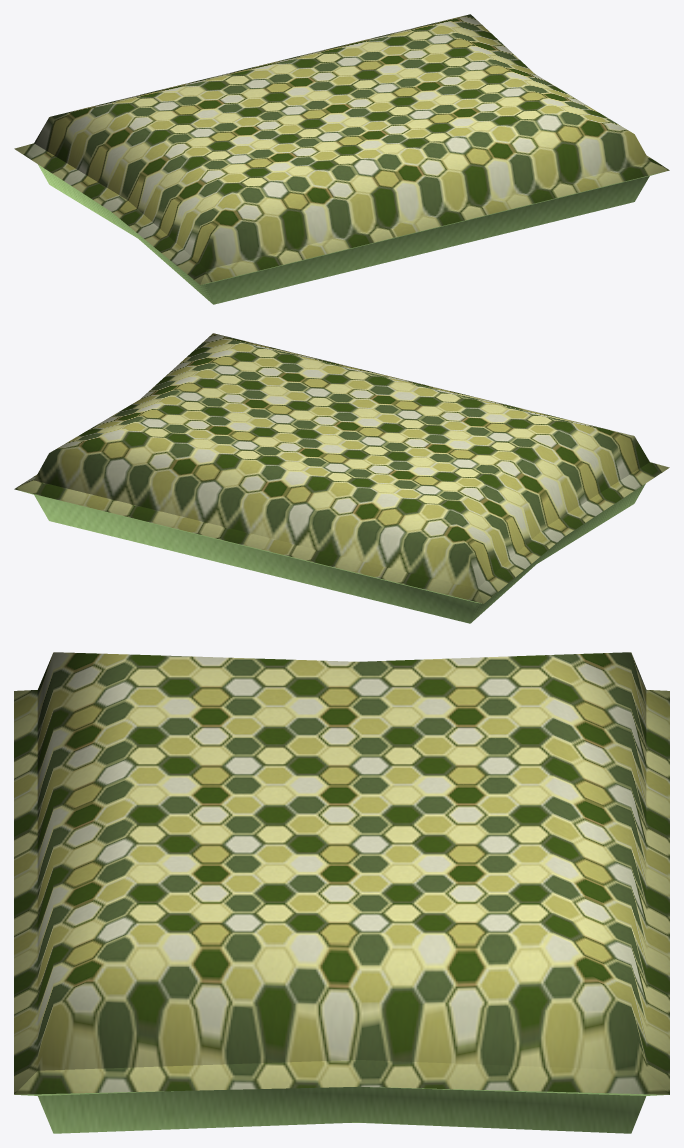
The model's file is Pillow_D_2.FBX.
3 views of the same model, one above another, from view 1: azimuth 30°, elevation 25°; view 2: azimuth 150°, elevation 25°; view 3: azimuth 270°, elevation 25° (orthographic). The views are drawn at different scales.
Parts seen in each view (by area): view 1: Pillow; view 2: Pillow; view 3: Pillow.
Boxes of the visible parts, box(x1,y1,x2,y2) form: Pillow: box(14, 14, 669, 304); Pillow: box(14, 333, 669, 623); Pillow: box(14, 652, 669, 1133).
Size of the model in its own units: 194 by 41.64 by 133.
